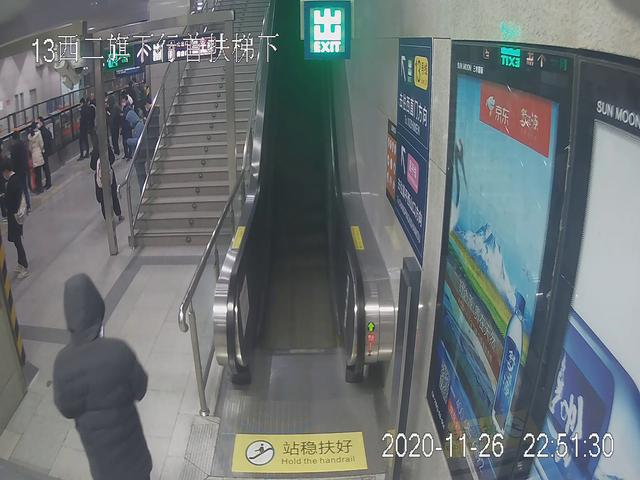person: (52, 274, 158, 480), (1, 153, 28, 284), (126, 106, 153, 196), (26, 119, 44, 190), (72, 95, 91, 157)
